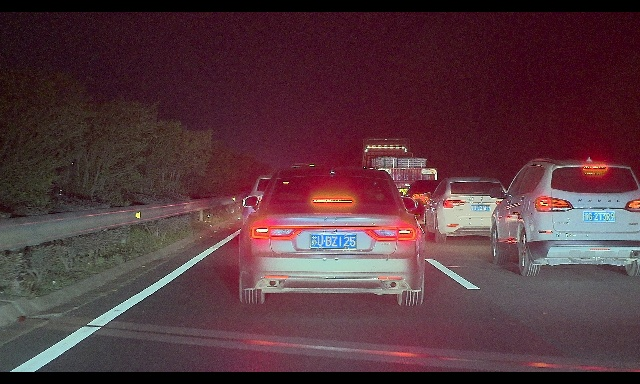car: (238, 167, 425, 306), (489, 157, 640, 276), (422, 177, 507, 244), (398, 180, 457, 228)
truck: (360, 137, 437, 220)
